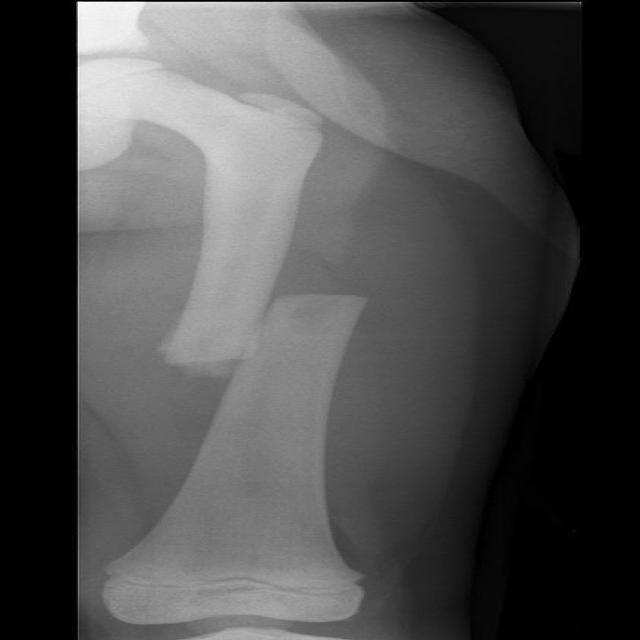fractured: (129, 277, 395, 401)
